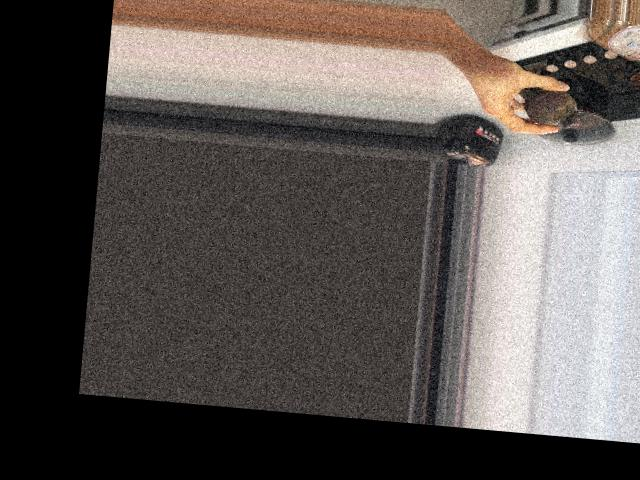beet: (519, 87, 583, 128)
